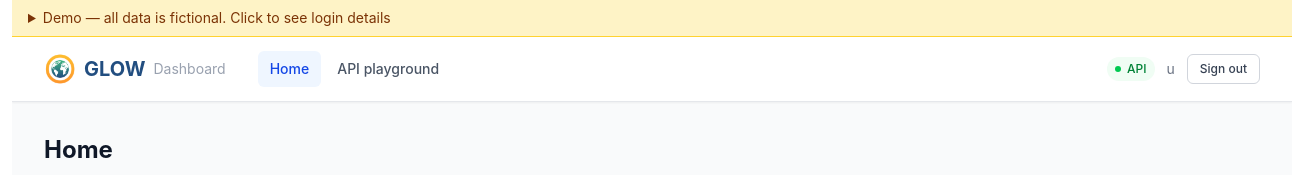
Test: Layout logout › clears auth and goes to /login without an end_session_endpoint
The image size is (1292, 175).
Step 1. Click the button "Sign out" → (1223, 69), box [1187, 54, 1260, 84]
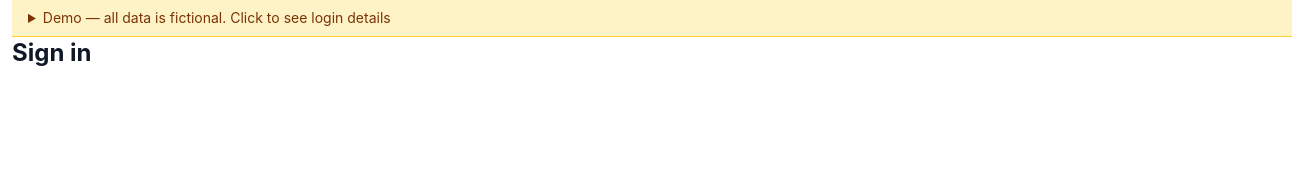
Expected: the heading "Sign in" is shown, [12, 38, 92, 67]
